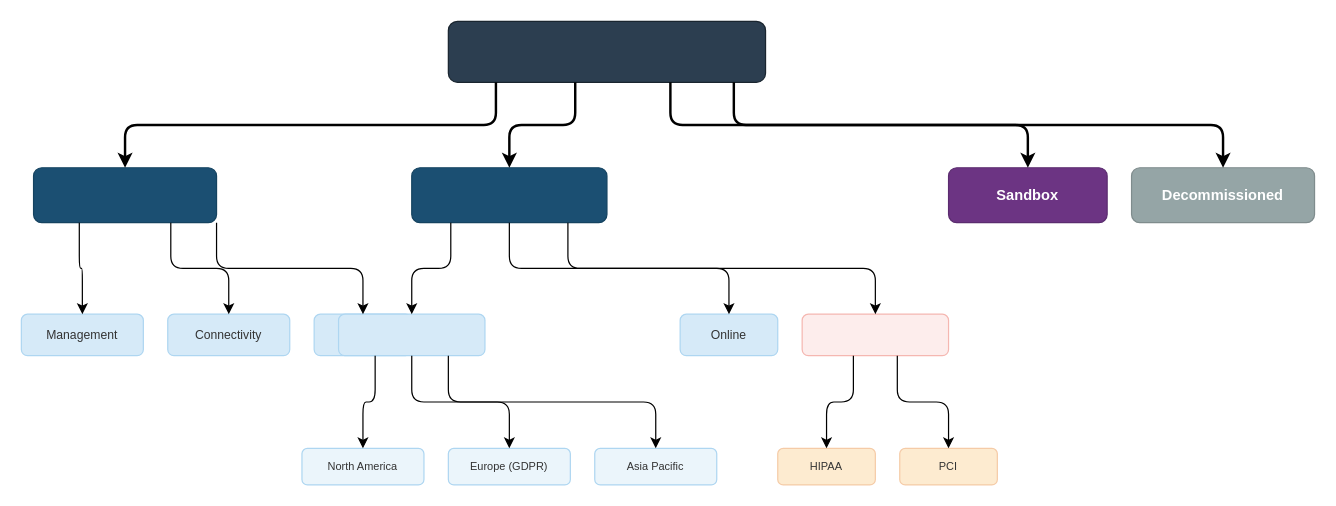
Some shapes in this 1336 by 506 pixel diagram are drawn without their labels. Each missing label, with the centre of its shape:
Corp: [411,334]
GlobalTech (Top-Level): [606,51]
Landing Zones: [509,195]
Platform: [124,195]
Regulated: [875,334]
